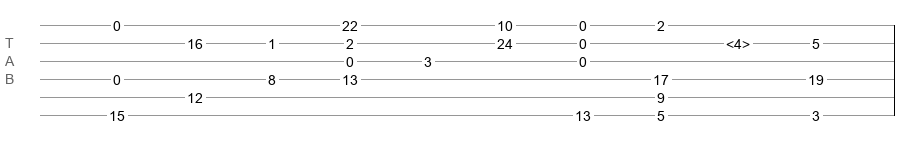0: (113, 72, 121, 82), (113, 18, 121, 28), (346, 54, 354, 64), (579, 36, 587, 46), (579, 18, 587, 28), (579, 54, 587, 64)
1: (268, 36, 276, 46)
10: (497, 18, 513, 28)
12: (187, 90, 203, 100)
13: (342, 72, 358, 82), (575, 108, 591, 118)
15: (109, 108, 125, 118)
16: (187, 36, 203, 46)
17: (653, 72, 669, 82)
19: (808, 72, 824, 82)
2: (346, 36, 354, 46), (657, 18, 665, 28)
22: (342, 18, 358, 28)
24: (497, 36, 513, 46)
3: (424, 54, 432, 64), (812, 108, 820, 118)
5: (657, 108, 665, 118), (812, 36, 820, 46)
8: (268, 72, 276, 82)
9: (657, 90, 665, 100)
harmonic: (726, 36, 750, 46)
